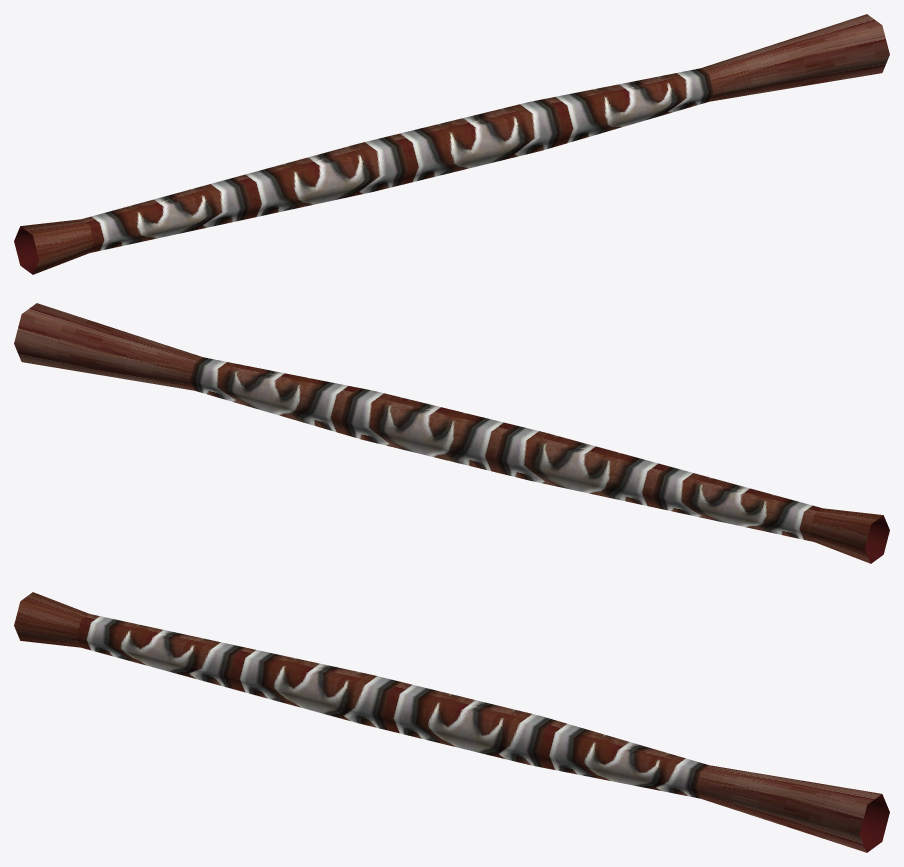
The picture shows the model from 3 angles, top to bottom: view 1: azimuth 30°, elevation 25°; view 2: azimuth 150°, elevation 25°; view 3: azimuth 330°, elevation 25°; orthographic projection.
Parts seen in each view (by area): view 1: it10301; view 2: it10301; view 3: it10301.
Boxes of the visible parts, x1,y1,x2,y2 form: it10301: (14,14,889,274); it10301: (14,303,889,563); it10301: (14,592,889,852).
Size of the model in its own units: 3.76 by 0.2026 by 0.2339.
Materials: 3 (3 with a texture image).
